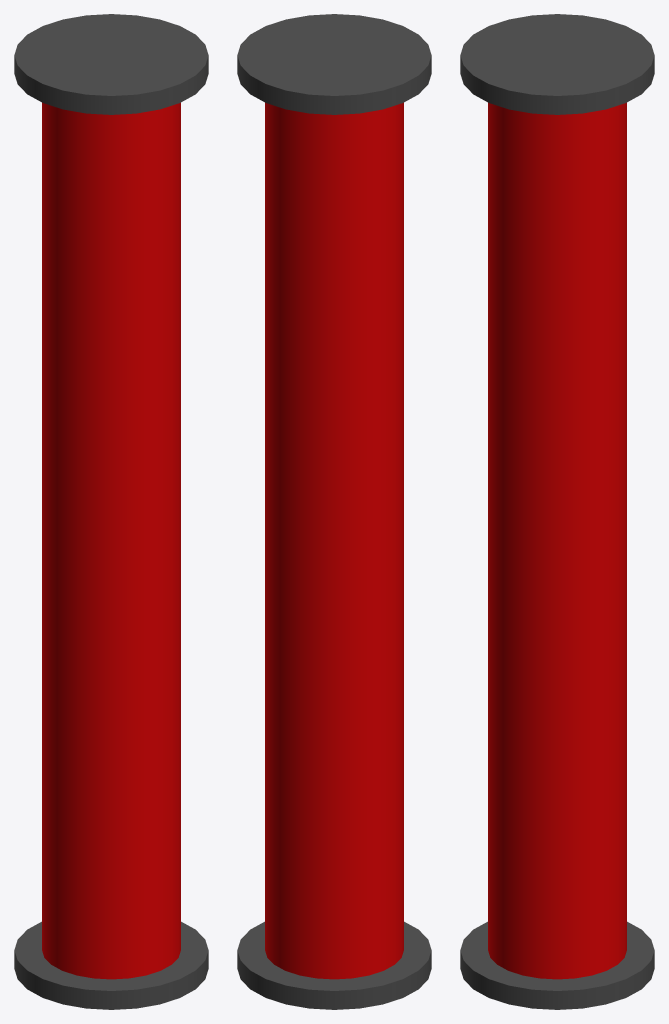
Rendered from Pipe2.fbx.
3 views of the same model, side by side, from view 1: azimuth 30°, elevation 25°; view 2: azimuth 150°, elevation 25°; view 3: azimuth 270°, elevation 25° (orthographic).
Visible parts, largest first — view 1: Cylinder; view 2: Cylinder; view 3: Cylinder.
Boxes of the visible parts, x1,y1,x2,y2 form: Cylinder: (14, 14, 208, 1009); Cylinder: (237, 14, 431, 1009); Cylinder: (460, 14, 654, 1009).
Bounding box in the file's own units: 279 × 1450 × 279.
